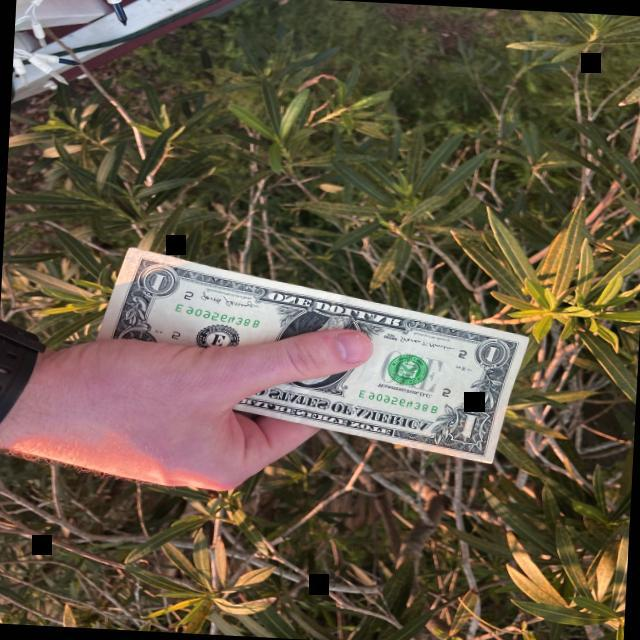one: (85, 246, 529, 464)
